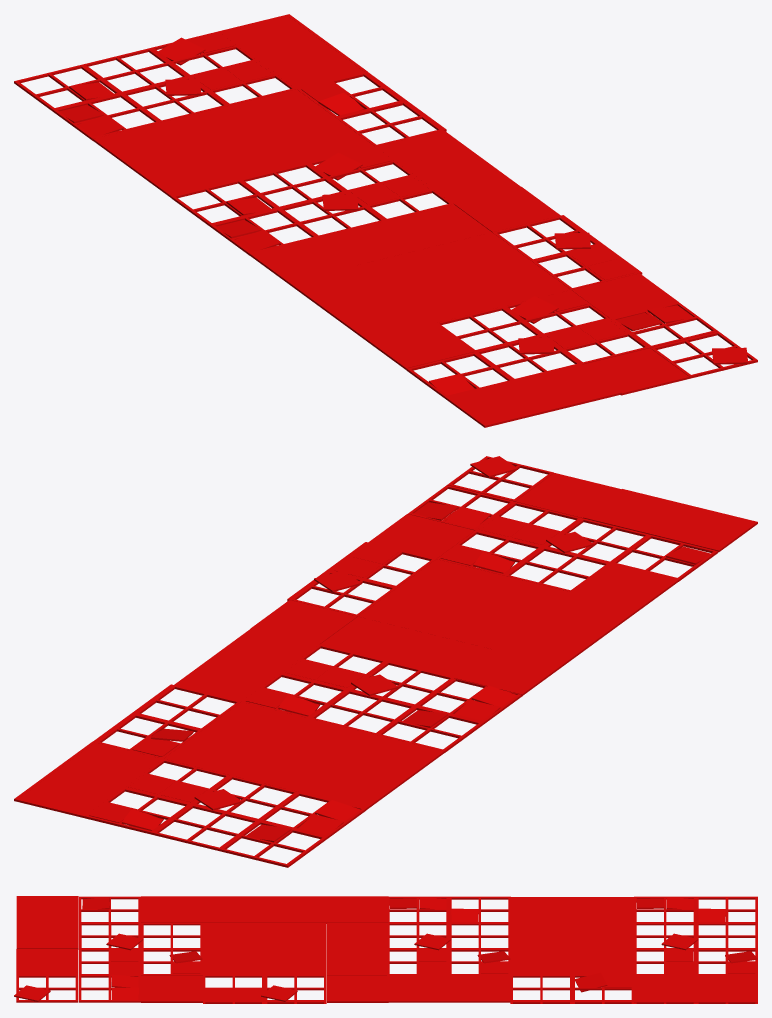
Rendered from W03_DropCeiling_01.fbx.
3 views of the same model, one above another, from view 1: azimuth 30°, elevation 25°; view 2: azimuth 150°, elevation 25°; view 3: azimuth 270°, elevation 25° (orthographic). The views are drawn at different scales.
Visible parts, largest first — view 1: W03_DropCeiling_01; view 2: W03_DropCeiling_01; view 3: W03_DropCeiling_01.
Boxes of the visible parts, bbox=[...] form: W03_DropCeiling_01: bbox=[14, 14, 757, 427]; W03_DropCeiling_01: bbox=[14, 456, 757, 867]; W03_DropCeiling_01: bbox=[14, 896, 757, 1003].
Size of the model in its own units: 607 by 15.95 by 1802.
